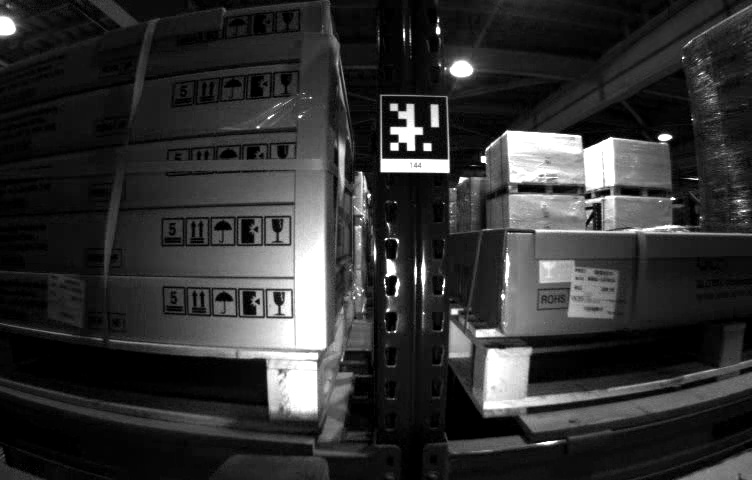True Barcode: (572, 265, 622, 318), (45, 274, 86, 335)
